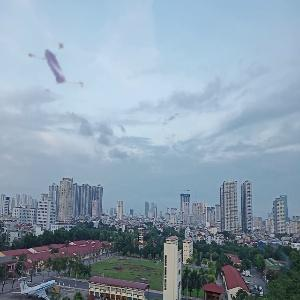drone: (18, 26, 103, 111)
